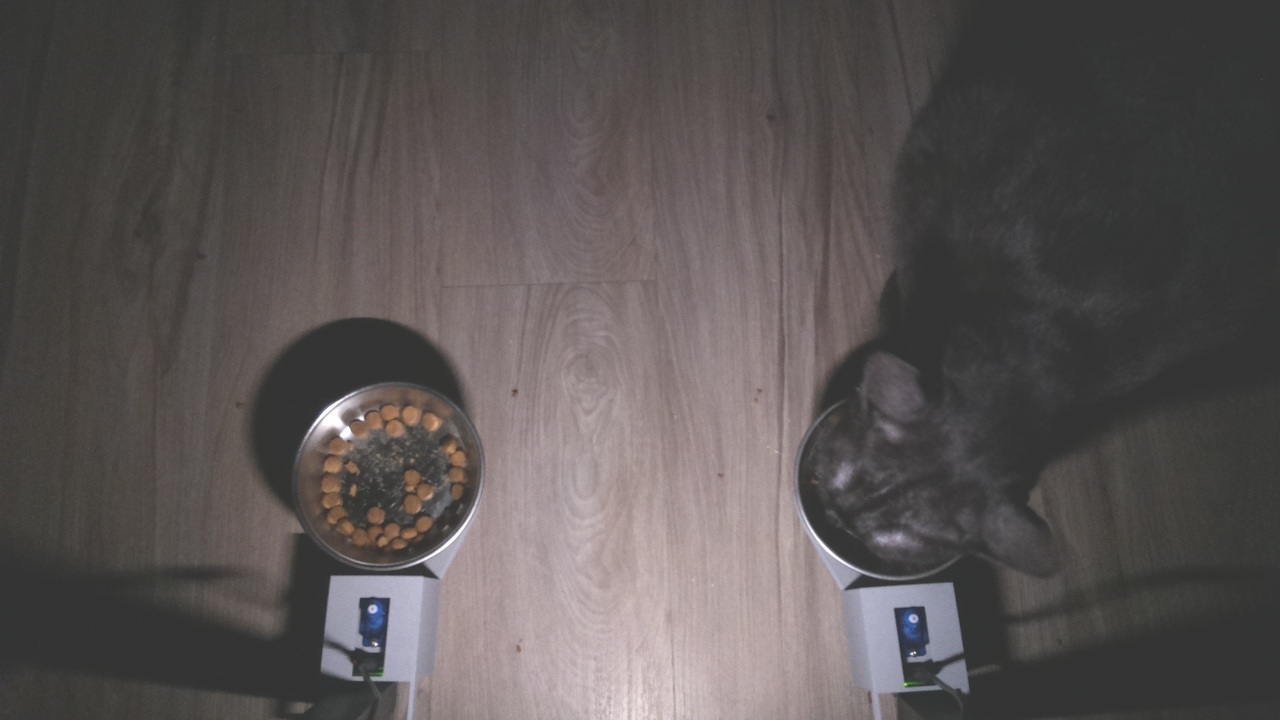open_bowl: (287, 372, 492, 578)
saki_eating: (793, 346, 1092, 596)
